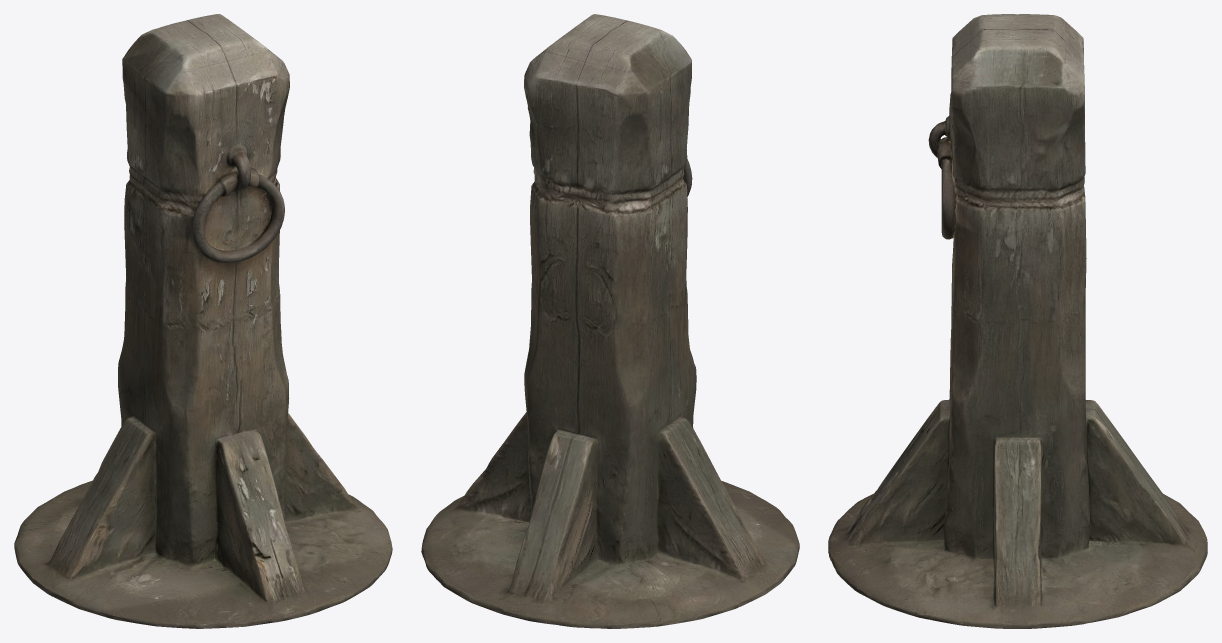
File: hitching-post.glb
3 views of the same model, side by side, from view 1: azimuth 30°, elevation 25°; view 2: azimuth 150°, elevation 25°; view 3: azimuth 270°, elevation 25° (orthographic).
Parts seen in each view (by area): view 1: Mesh_0; view 2: Mesh_0; view 3: Mesh_0.
Part boxes in pixels (x1,y1,x2,y2): Mesh_0: (14,14,392,628); Mesh_0: (421,14,799,628); Mesh_0: (828,14,1207,628).
Size of the model in its own units: 1.26 by 1.9 by 1.26.
Materials: 1 (1 with a texture image).
